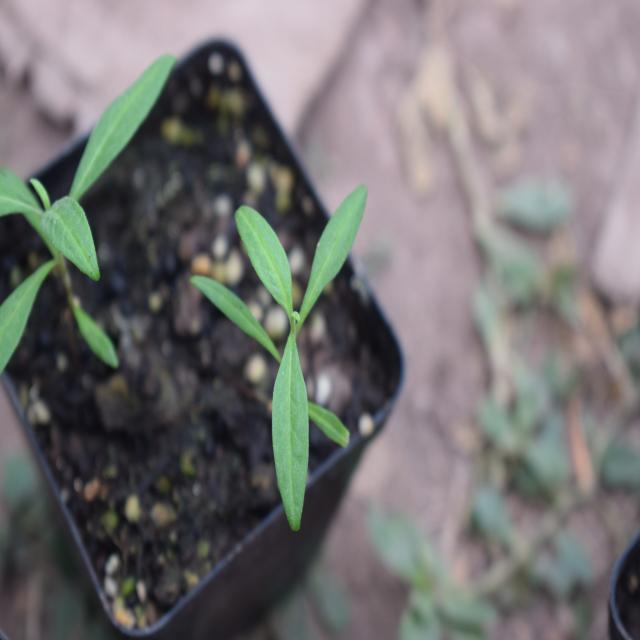white_smart_weed: (180, 162, 430, 536)
